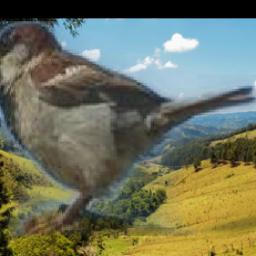Sparrow: (0, 21, 256, 236)
